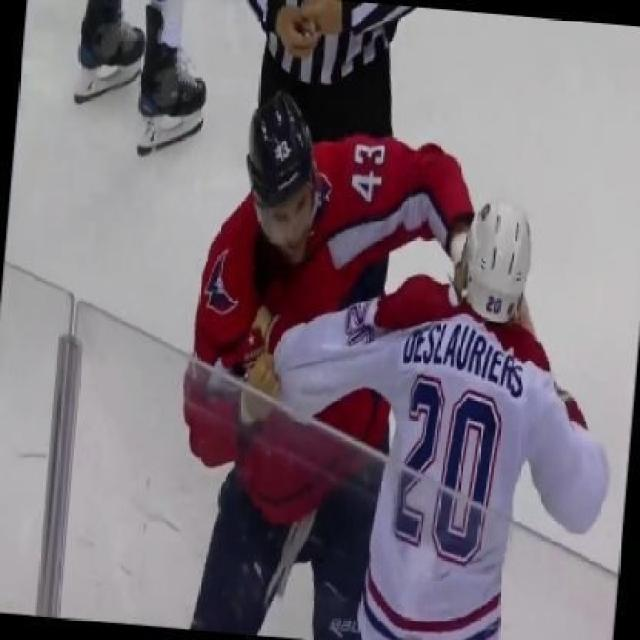fight: (135, 77, 637, 638)
